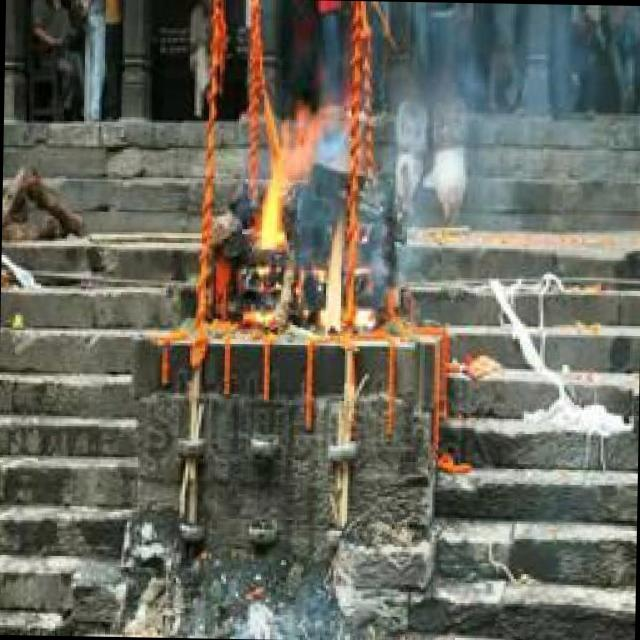Fire: (249, 101, 321, 255), (302, 216, 362, 332)
